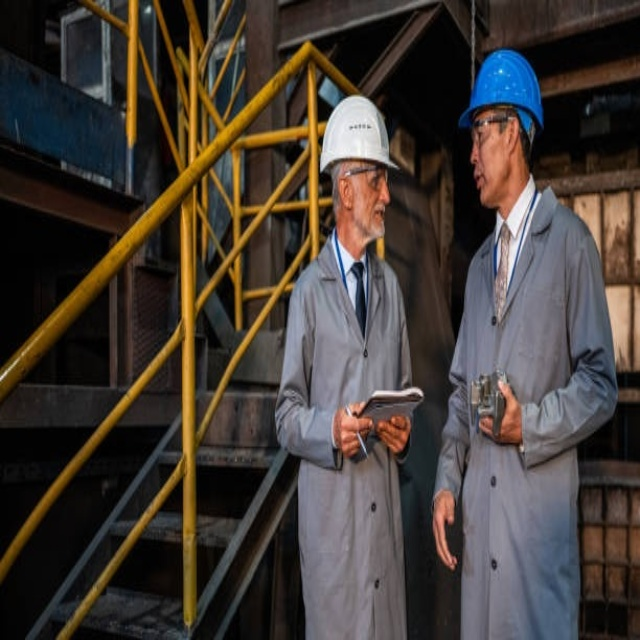Gafas: (470, 113, 520, 147), (340, 165, 389, 189)
Sin_guantes: (478, 378, 523, 448), (431, 494, 459, 570), (336, 403, 373, 460), (373, 413, 410, 457)
Sin_mascara: (474, 162, 493, 199), (368, 201, 388, 231)
